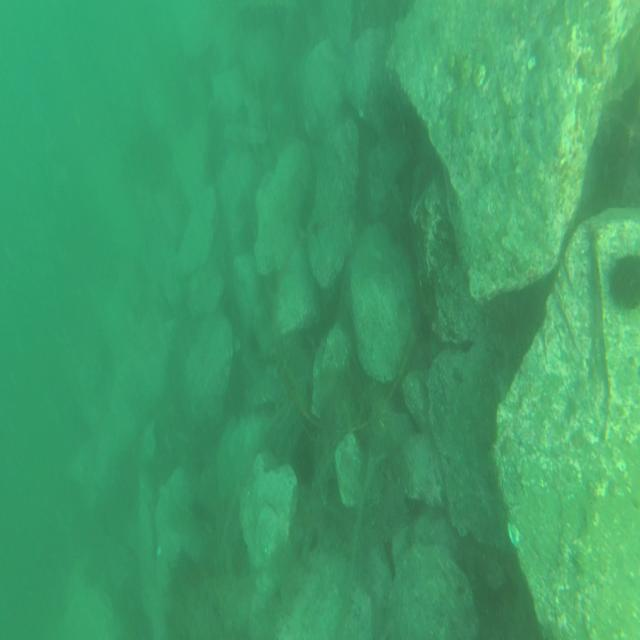echinus: (610, 245, 640, 319)
